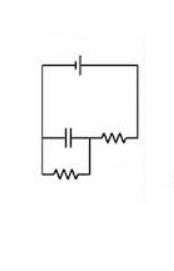resistor: (45, 163, 87, 190), (96, 128, 131, 150)
